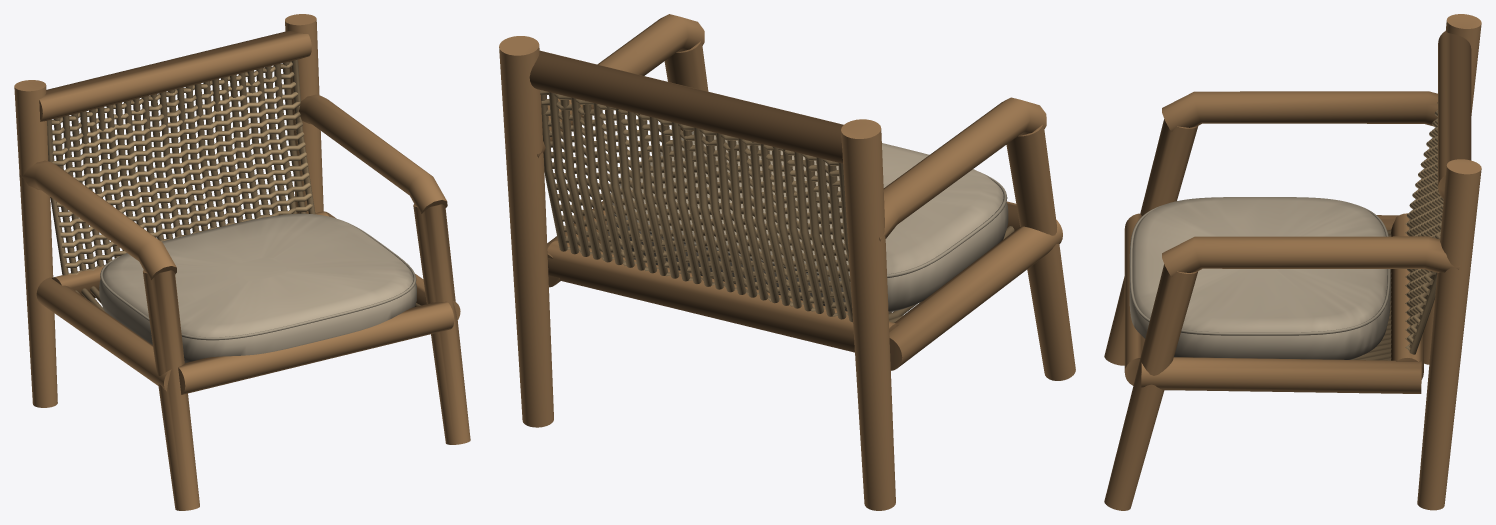
Rendered from woven-chair.glb.
3 renders of one model, left to right at view 1: azimuth 30°, elevation 25°; view 2: azimuth 150°, elevation 25°; view 3: azimuth 270°, elevation 25°, orthographic. The views are drawn at different scales.
Parts seen in each view (by area): view 1: woven-chair; view 2: woven-chair; view 3: woven-chair.
Part boxes in pixels (x1,y1,x2,y2): woven-chair: (14,14,470,510); woven-chair: (499,14,1075,510); woven-chair: (1104,14,1481,510).
Size of the model in its own units: 0.798 by 0.7951 by 0.795.
